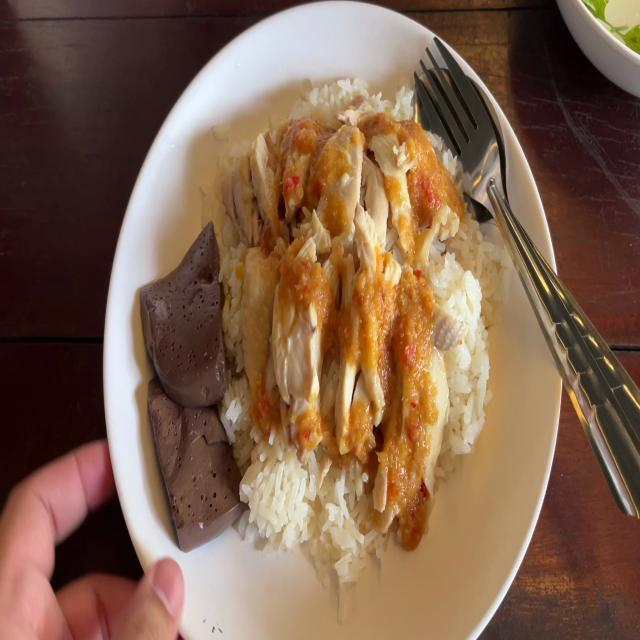boiled_chicken: (234, 125, 446, 449)
boiled_chicken_blood_jelly: (130, 220, 227, 404), (141, 377, 241, 541)
chicken_rice: (138, 84, 512, 575)
